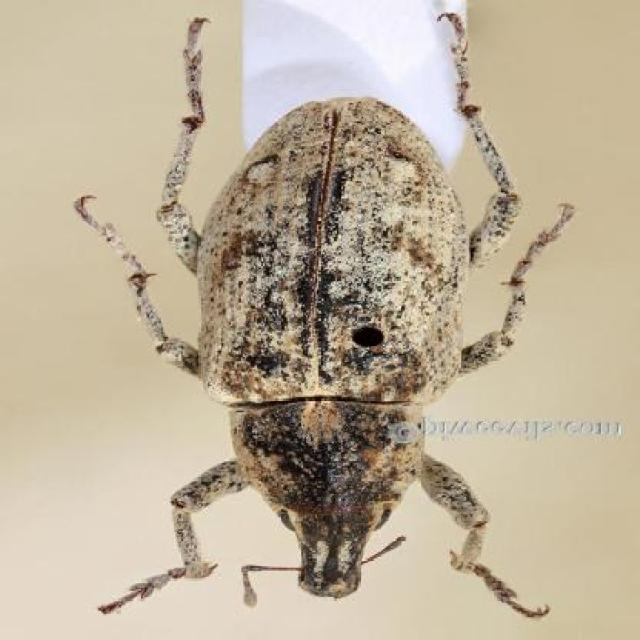rice-bug: (133, 13, 542, 610)
